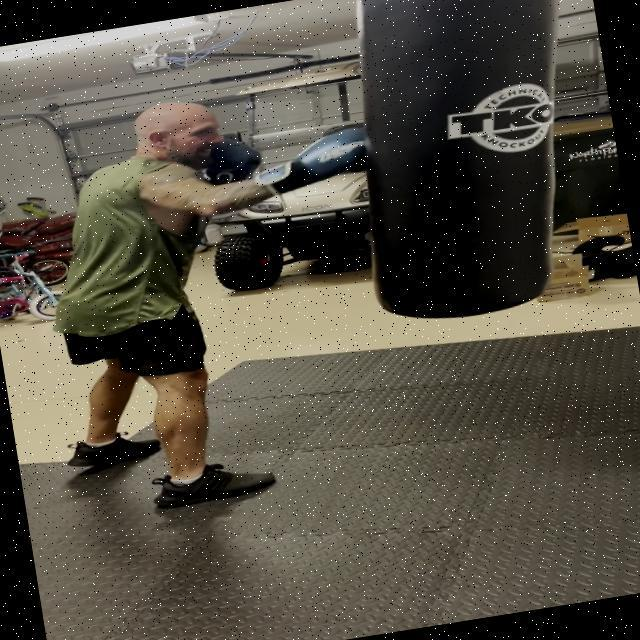bag: (358, 0, 564, 322)
jab: (41, 51, 443, 294)
